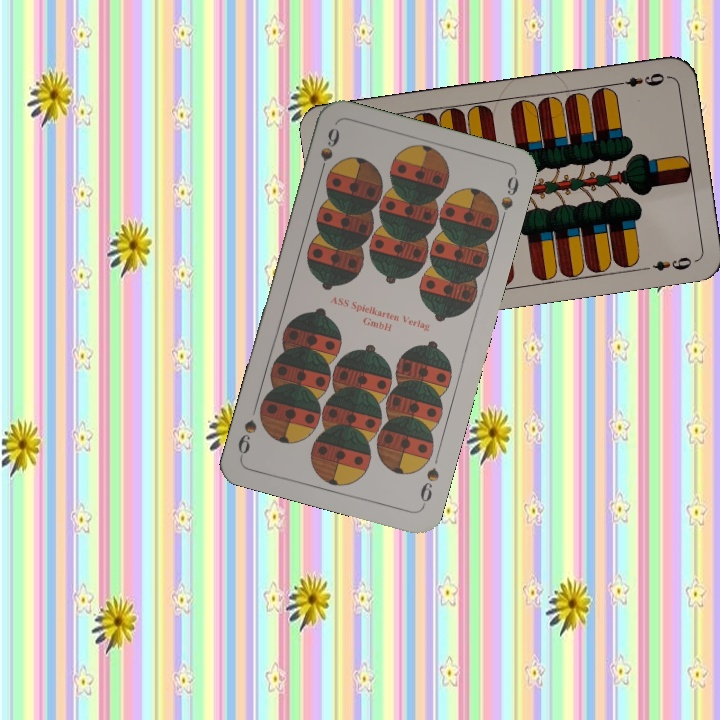E9: (611, 68, 667, 90)
S9: (315, 124, 343, 182), (416, 463, 442, 510)
